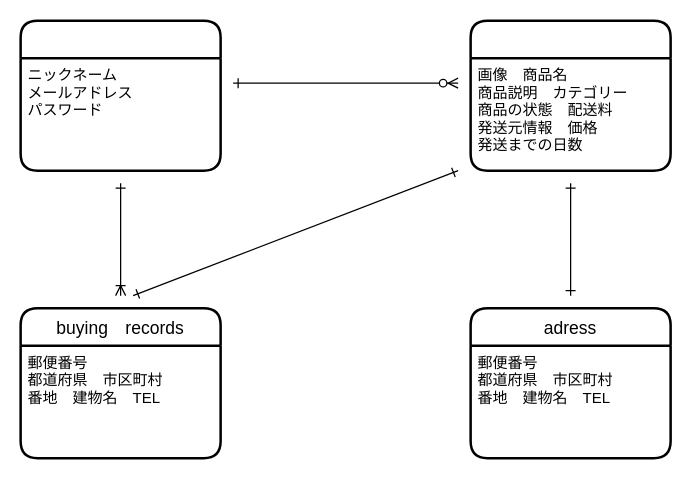
The diagram is 691 pixels wide and 479 high, and some of its shapes have lost their labels. The box of each missing label's shape, as (x1, y1, x2, y2) in pixels:
items: (469, 19, 671, 171)
user: (19, 19, 221, 171)
